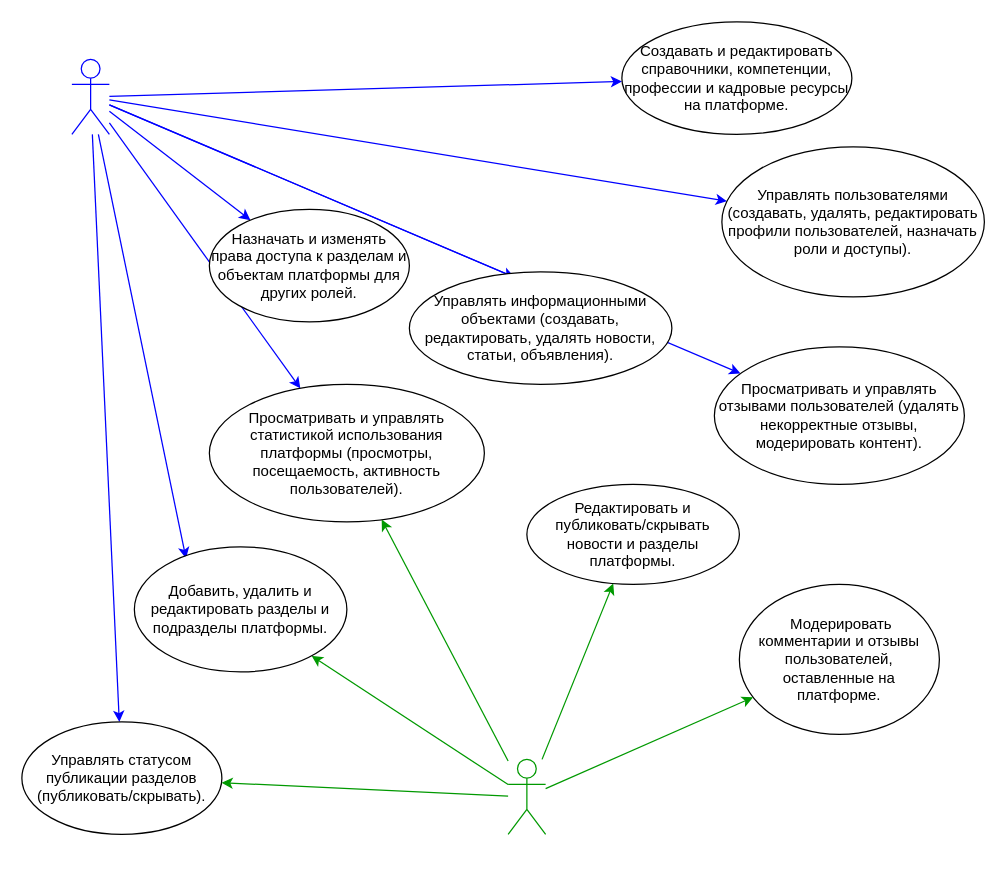
Image size: 1006x883. Some labels were removed from this diagram. The centre of each missing label's shape, as x and y in pixels:
"Администратор" belongs at (90,96).
"Модератор" belongs at (526,796).
